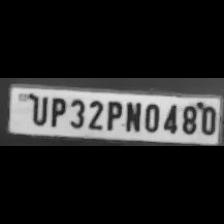0: (197, 100, 217, 136), (142, 100, 160, 132)
2: (84, 97, 104, 131)
3: (66, 96, 86, 128)
4: (160, 100, 178, 134)
8: (179, 101, 197, 135)
N: (122, 99, 142, 133)
P: (46, 95, 66, 127), (104, 98, 122, 132)
U: (26, 92, 48, 125)
